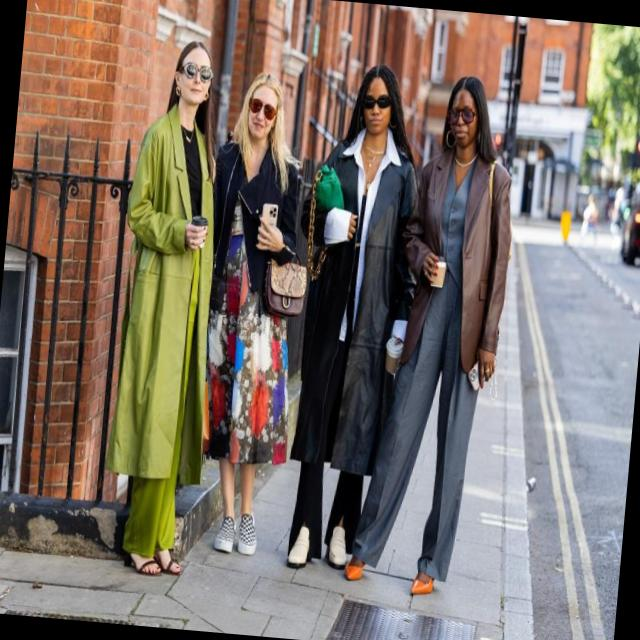Jacket: (97, 100, 250, 487), (282, 138, 424, 482), (392, 146, 520, 397), (195, 130, 312, 338)
